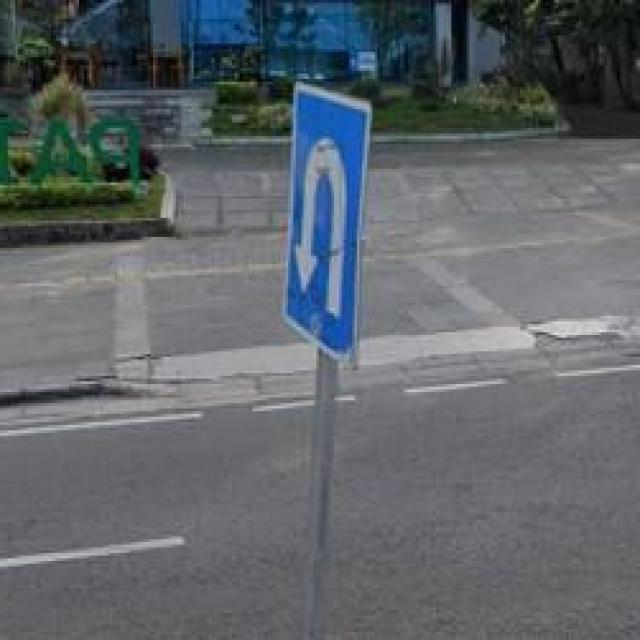U-turn: (285, 87, 359, 351)
